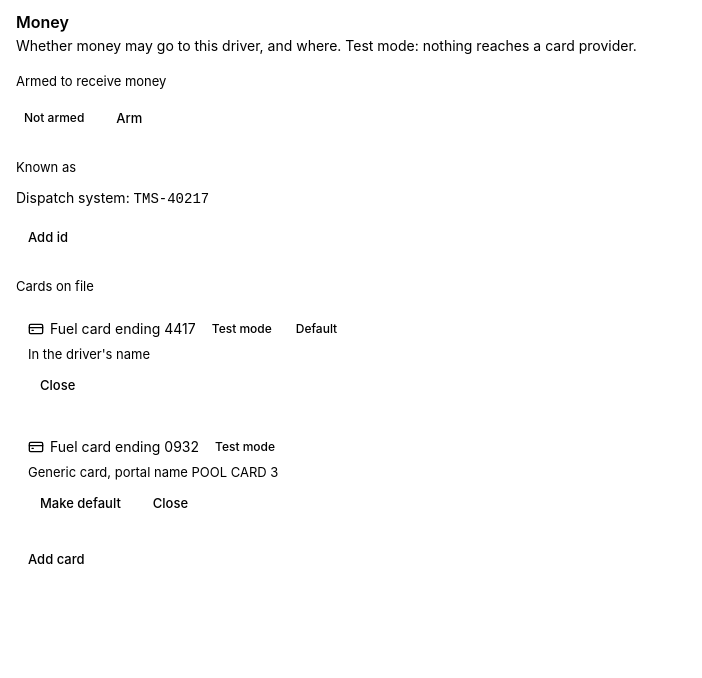
Test: DriverMoneyPanel › shows an arm refused for a departed driver as its fixed sentence
This screenshot has width=702, height=678.
Click the button "Arm" at (129, 118), box [104, 102, 154, 134]
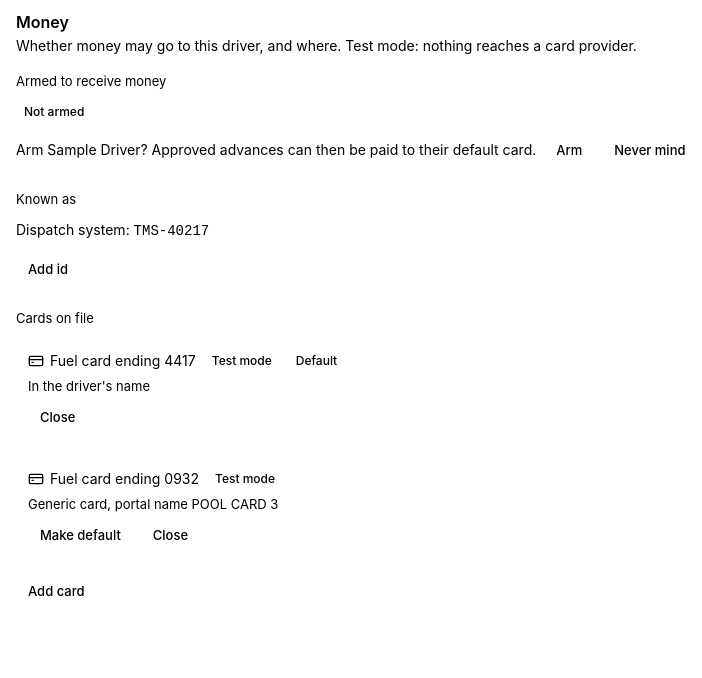
Click the button "Arm" at (569, 150), box [544, 134, 594, 166]
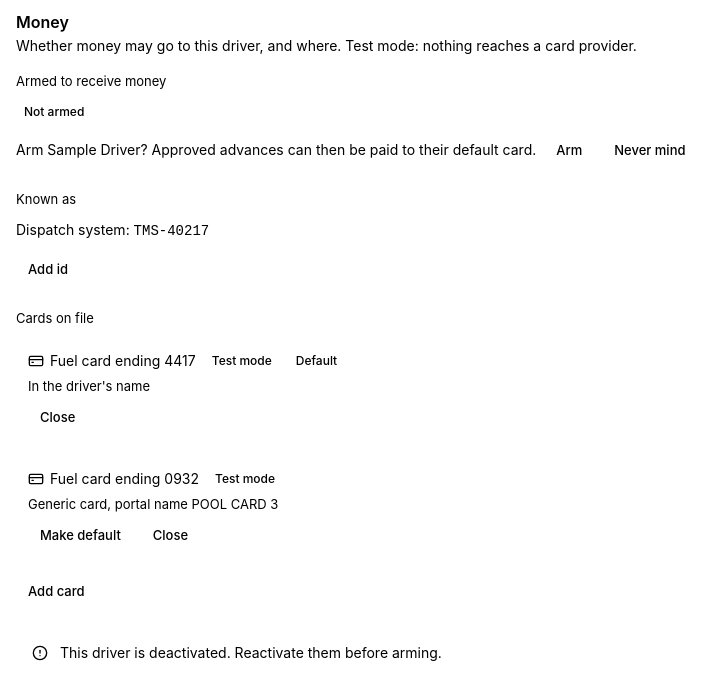
Now the text "This driver is deactivated. Reactivate them before arming." is shown, box [60, 644, 442, 661]
